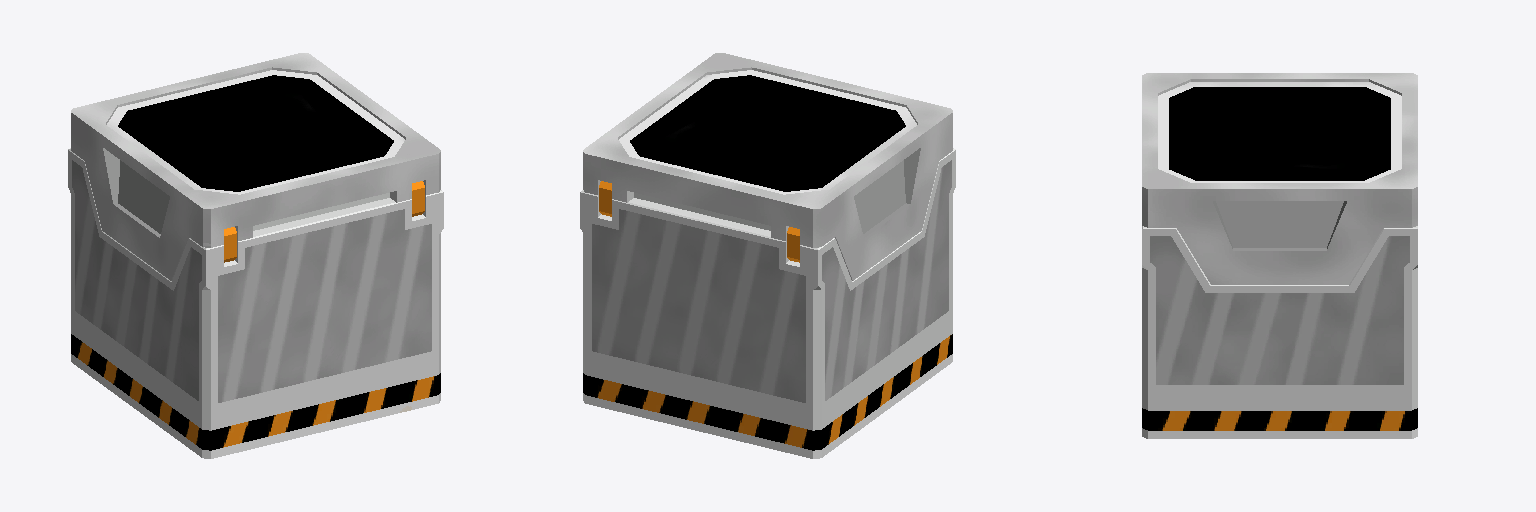
3 renders of one model, left to right at view 1: azimuth 30°, elevation 25°; view 2: azimuth 150°, elevation 25°; view 3: azimuth 270°, elevation 25°, orthographic.
Parts seen in each view (by area): view 1: Bin1; view 2: Bin1; view 3: Bin1.
Part boxes in pixels (left/top/right/bottom): Bin1: left=68, top=53, right=443, bottom=458; Bin1: left=580, top=53, right=955, bottom=458; Bin1: left=1142, top=73, right=1417, bottom=438.
Bounding box in the file's own units: 4 × 4 × 4.
Materials: 1 (1 with a texture image).